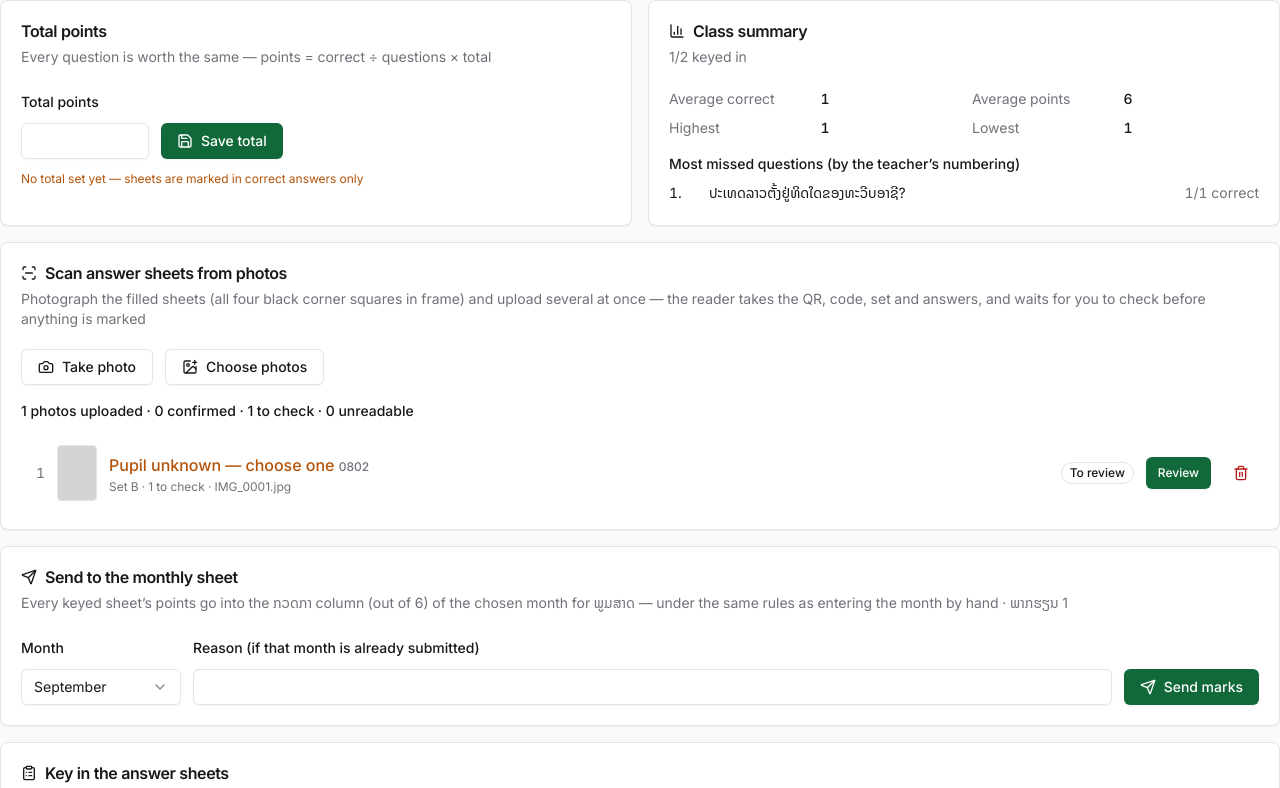
Test: sending marks to the monthly sheet › sends the keyed points into the chosen month’s ກວດກາ column
Click the button "Send marks" at (1191, 687), box [1124, 669, 1259, 705]
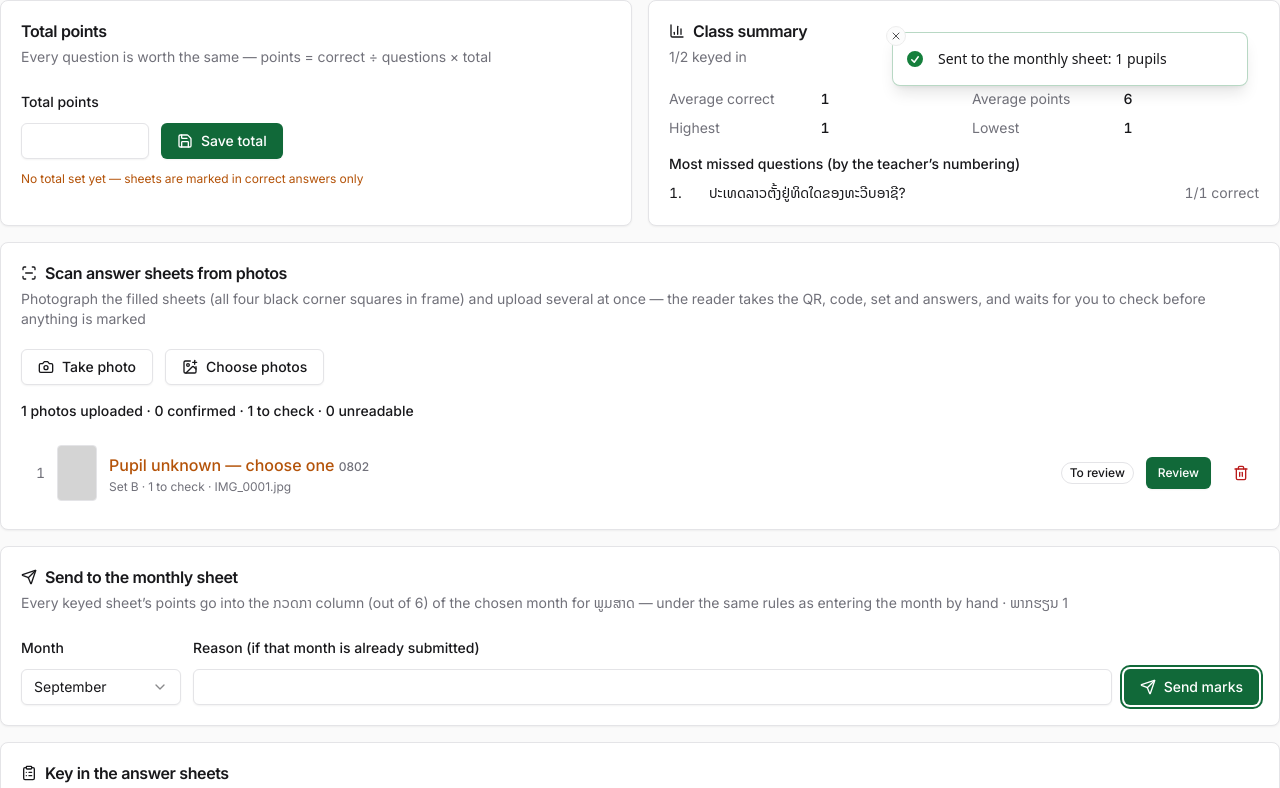
Result: the text "Sent to the monthly sheet: 1 pupils" is shown at [938, 49, 1167, 69]
